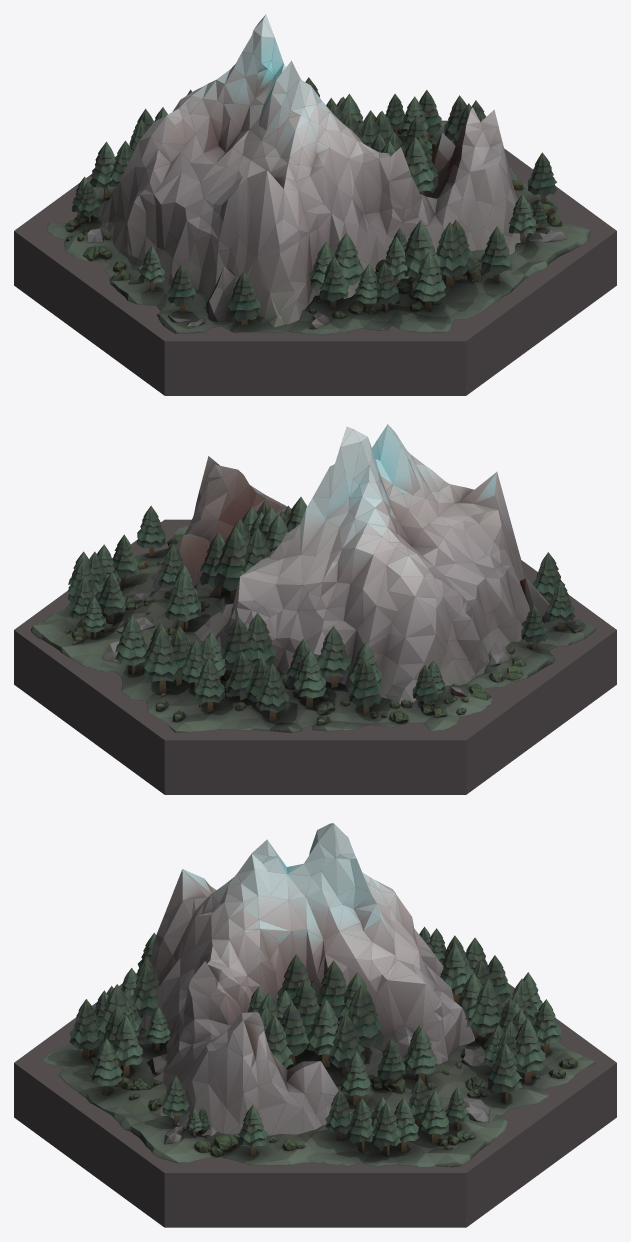
Rendered from mountain.glb.
3 renders of one model, top to bottom at view 1: azimuth 30°, elevation 25°; view 2: azimuth 150°, elevation 25°; view 3: azimuth 270°, elevation 25°, orthographic.
Visible parts, largest first — view 1: Cylinder_001; view 2: Cylinder_001; view 3: Cylinder_001.
Part boxes in pixels (left/top/right/bottom): Cylinder_001: left=14, top=14, right=616, bottom=395; Cylinder_001: left=14, top=424, right=616, bottom=794; Cylinder_001: left=14, top=823, right=616, bottom=1227.
Size of the model in its own units: 17.32 by 10.05 by 20.
8 materials, 7 textured.
